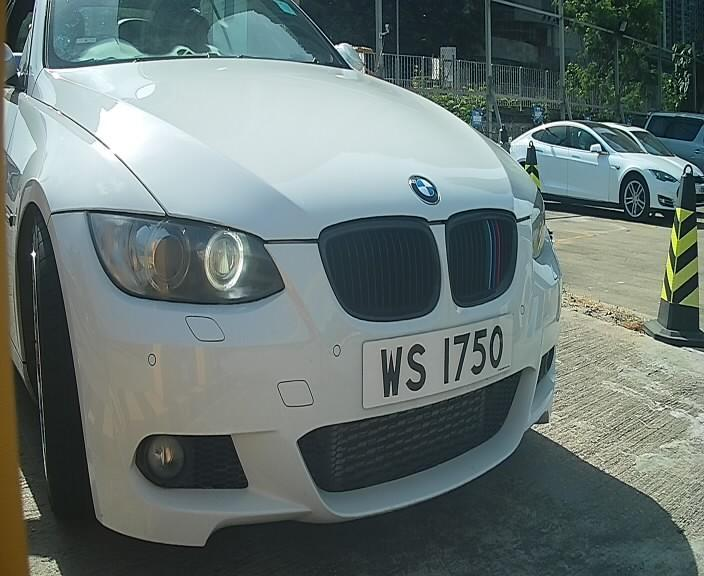privatecar: (32, 24, 551, 538)
